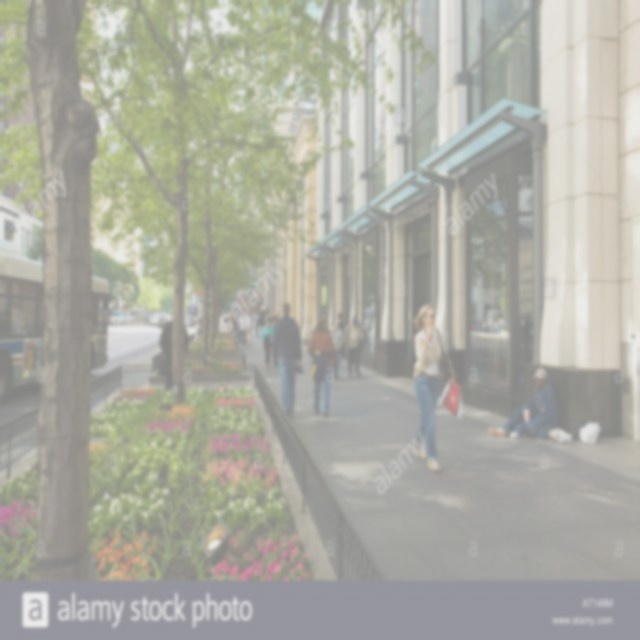pessoa: (412, 302, 457, 474), (486, 366, 562, 442), (272, 300, 308, 420), (305, 316, 338, 420), (472, 313, 532, 357), (160, 318, 190, 392), (342, 316, 366, 378), (312, 317, 332, 384), (329, 316, 344, 381), (259, 314, 274, 370), (24, 346, 46, 376), (220, 310, 240, 340), (362, 308, 375, 354), (268, 315, 279, 364), (236, 312, 249, 349), (244, 310, 254, 346), (252, 312, 264, 338), (336, 311, 346, 335), (193, 312, 203, 330), (269, 310, 278, 326), (276, 312, 281, 320)
